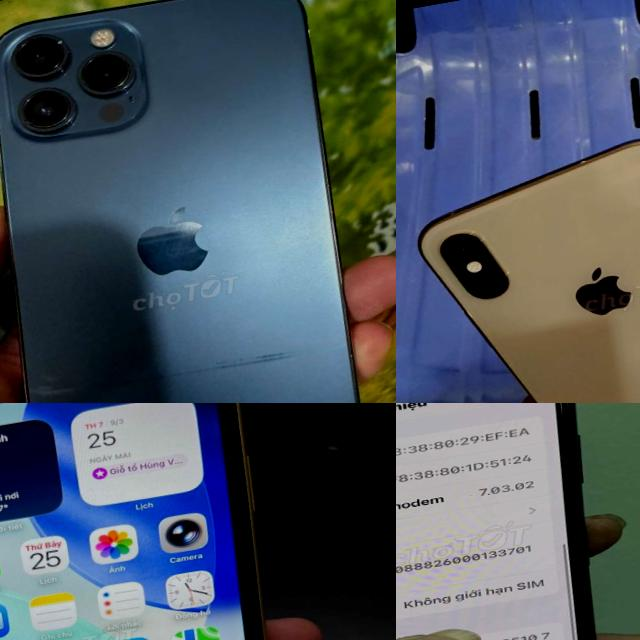scratch: (10, 307, 335, 403)
